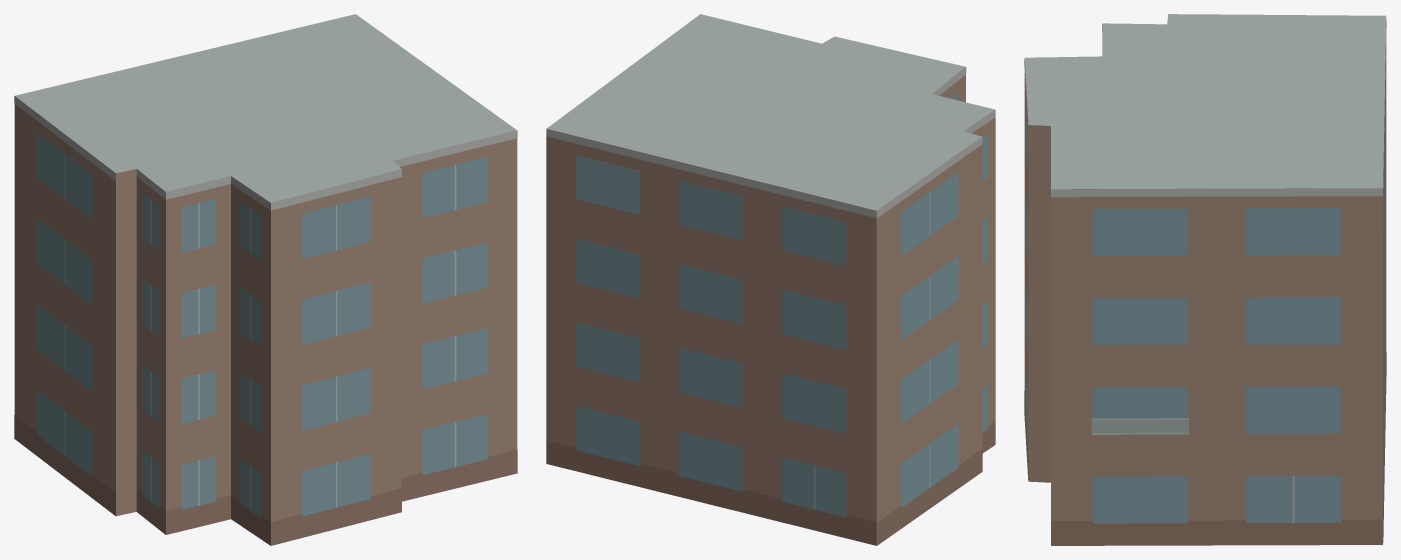
File: survey-upis-32680390.glb
3 renders of one model, left to right at view 1: azimuth 30°, elevation 25°; view 2: azimuth 150°, elevation 25°; view 3: azimuth 270°, elevation 25°, orthographic. The views are drawn at different scales.
Visible parts, largest first — view 1: survey-upis-32680390.tmp; view 2: survey-upis-32680390.tmp; view 3: survey-upis-32680390.tmp.
Boxes of the visible parts, x1,y1,x2,y2 form: survey-upis-32680390.tmp: [14, 14, 517, 545]; survey-upis-32680390.tmp: [546, 14, 995, 545]; survey-upis-32680390.tmp: [1024, 14, 1386, 545].
Bounding box in the file's own units: 11.41 × 10.8 × 9.94.
